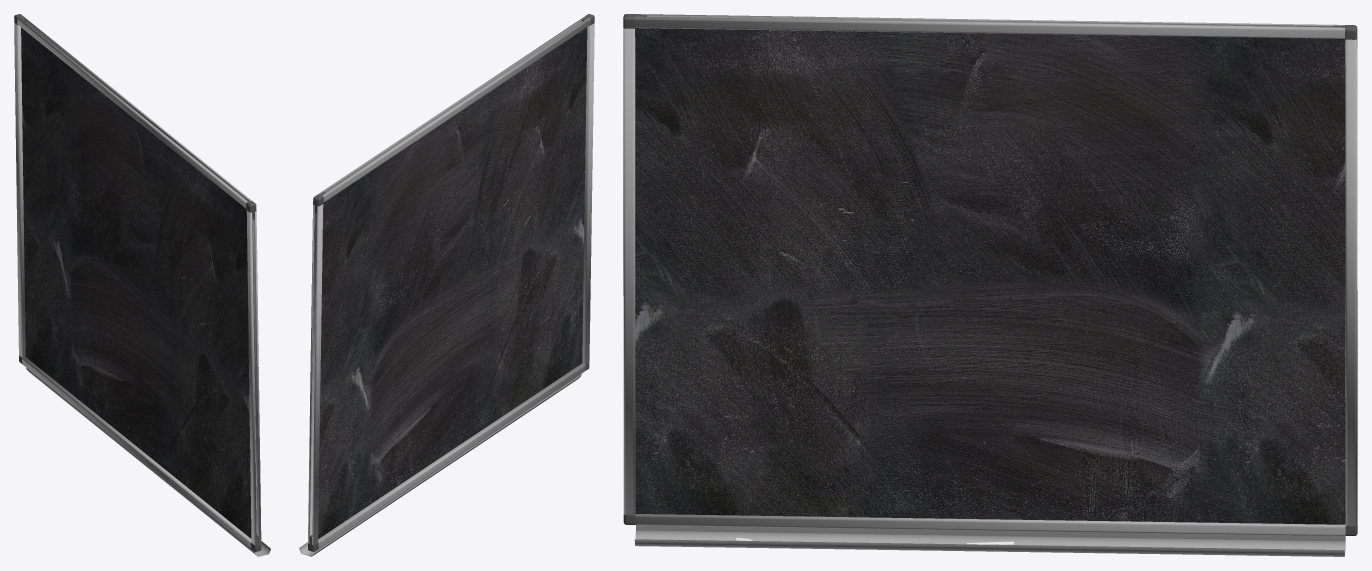
Rendered from White Board.glb.
3 views of the same model, side by side, from view 1: azimuth 30°, elevation 25°; view 2: azimuth 150°, elevation 25°; view 3: azimuth 270°, elevation 25° (orthographic). The views are drawn at different scales.
Parts seen in each view (by area): view 1: Board.003, Frame.012, Frame.015, Frame.013, Frame.014, Holder.001; view 2: Board.003, Frame.013, Frame.015, Frame.014, Frame.012, Holder.001; view 3: Board.003, Holder.001, Frame.015, Frame.014, Frame.012, Frame.013.
Part boxes in pixels (<box>): Board.003: <box>21,27,251,538</box>; Frame.012: <box>246,210,261,545</box>; Frame.015: <box>17,16,251,208</box>; Frame.013: <box>14,23,25,357</box>; Frame.014: <box>22,357,251,548</box>; Holder.001: <box>26,368,270,556</box>; Board.003: <box>318,27,587,538</box>; Frame.013: <box>308,204,323,544</box>; Frame.015: <box>318,16,590,202</box>; Frame.014: <box>318,363,585,548</box>; Frame.012: <box>582,23,594,363</box>; Holder.001: <box>299,374,581,556</box>; Board.003: <box>635,28,1345,524</box>; Holder.001: <box>634,525,1345,556</box>; Frame.015: <box>635,14,1345,38</box>; Frame.014: <box>635,514,1345,535</box>; Frame.012: <box>623,28,635,514</box>; Frame.013: <box>1345,39,1357,526</box>.
Size of the model in its own units: 0.8101 by 6.67 by 8.57.
5 materials, 1 textured.
